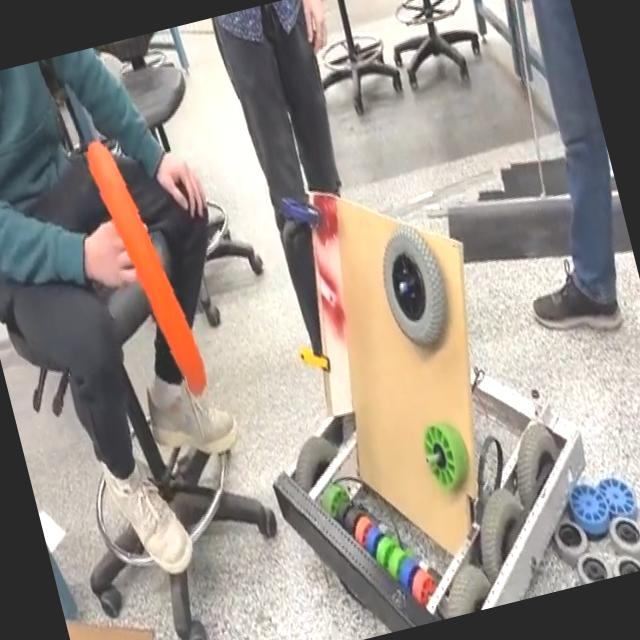note: (78, 122, 216, 412)
